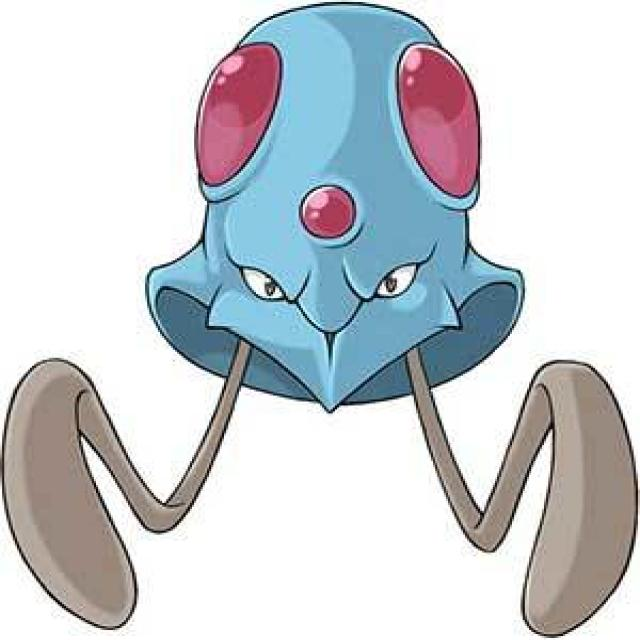Tentacool: (143, 0, 528, 550)
